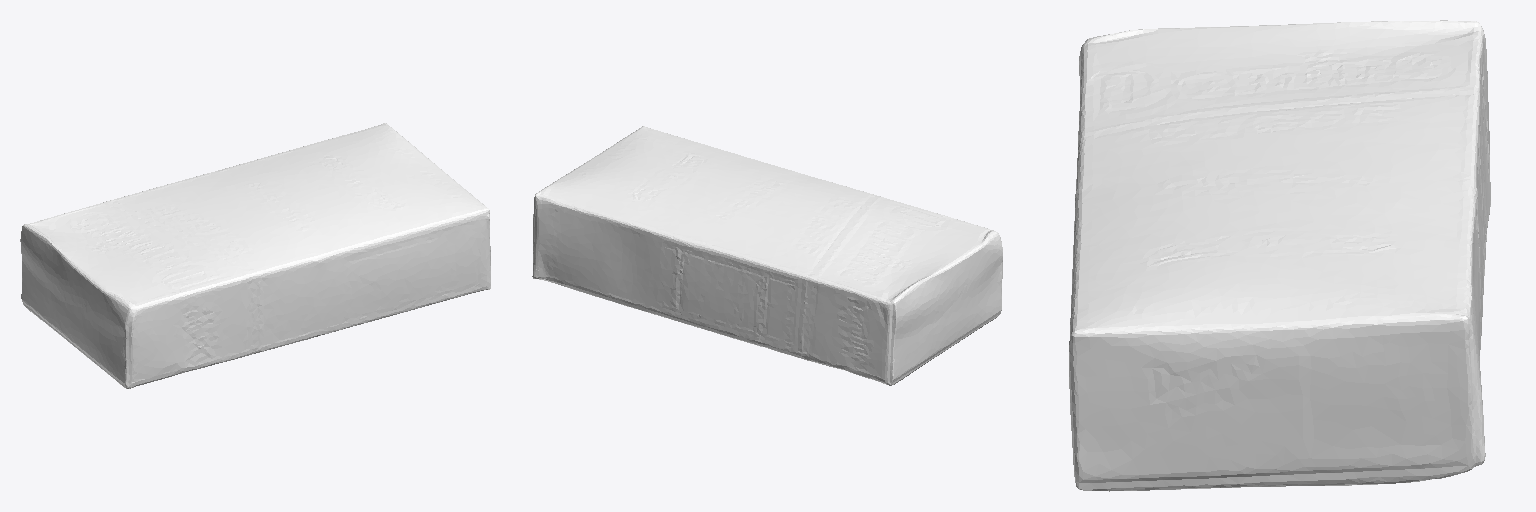
The robot description file, URDF, robot "ycb_obj":
<robot name="ycb_obj">
  <link name="ycb_obj_base_link">
    <contact>
      <lateral_friction value="0.2"/>
      <rolling_friction value="0.001"/>
      <contact_cfm value="0.0"/>
      <contact_erp value="1.0"/>
    </contact>
    <inertial>
      <origin rpy="0 0 0" xyz="0 0 0"/>
      <mass value="0.05"/>
      <inertia ixx="0" ixy="0" ixz="0" iyy="0" iyz="0" izz="0"/>
    </inertial>
    <collision>
      <origin rpy="0 0 0" xyz="0 0 0"/>
      <geometry>
        <mesh filename="model_com.obj" scale="1 1 1"/>
      </geometry>
    </collision>
    <visual>
      <origin rpy="0 0 0" xyz="0 0 0"/>
      <geometry>
        <mesh filename="model_com.obj" scale="1 1 1"/>
      </geometry>
      <material name="white">
        <color rgba="1 1 1 1"/>
      </material>
    </visual>
  </link>
</robot>

--- What the picture shows (computed from the rendered views, not written in the file) ---
Views: 3 orthographic renders of the robot side by side, from view 1: azimuth 30°, elevation 25°; view 2: azimuth 150°, elevation 25°; view 3: azimuth 270°, elevation 25°.
Robot: ycb_obj — 1 links, 0 joints (none); root link ycb_obj_base_link; default pose: all joints at 0.
Visible links, largest first — view 1: ycb_obj_base_link; view 2: ycb_obj_base_link; view 3: ycb_obj_base_link.
Link boxes in pixels (x1,y1,x2,y2): ycb_obj_base_link: [20, 123, 490, 388]; ycb_obj_base_link: [532, 126, 1002, 385]; ycb_obj_base_link: [1069, 20, 1490, 491].
Bounding box of the posed robot: 0.176 × 0.0942 × 0.0495 m (x, y, z).
1 mesh visuals loaded from 1 distinct referenced files (1 OBJ).